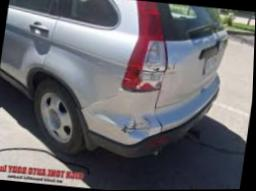Fender: (85, 90, 163, 144)
